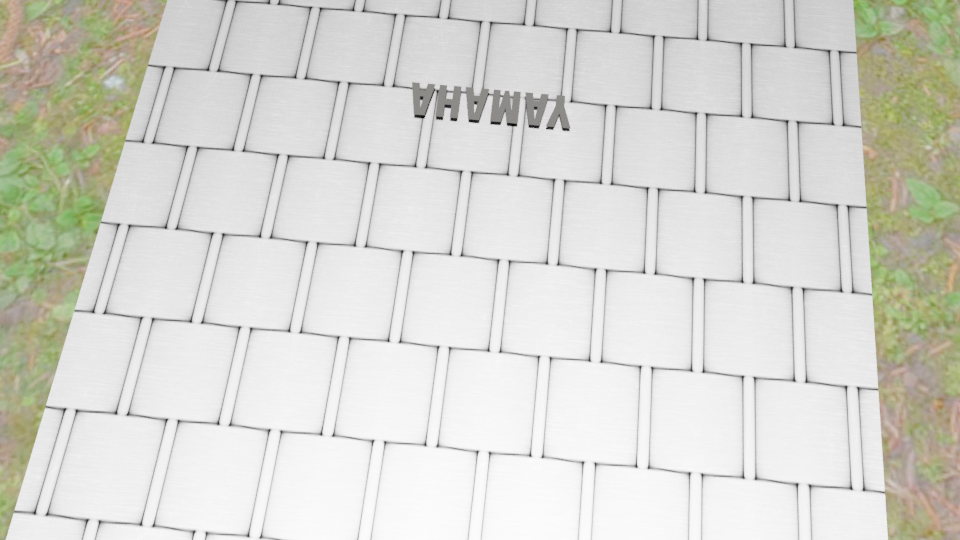yamaha_letters: (411, 81, 571, 128)
